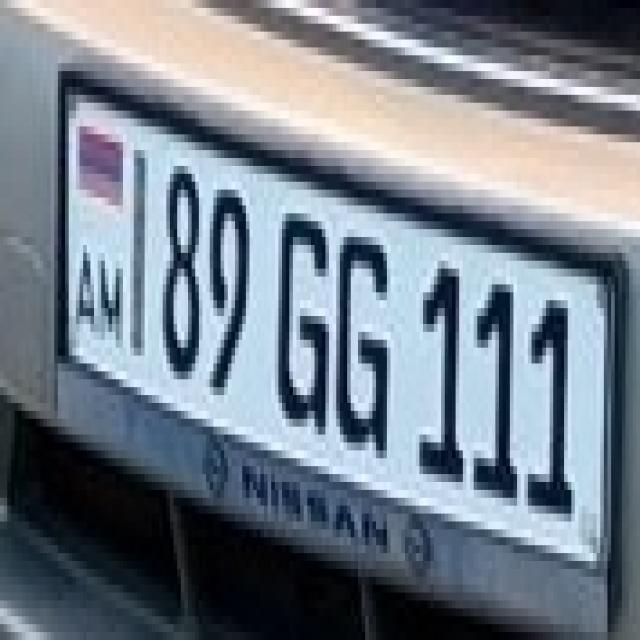1: (452, 260, 521, 506), (506, 268, 575, 506), (402, 237, 466, 482)
8: (138, 134, 206, 372)
9: (192, 166, 256, 387)
G: (326, 205, 394, 450), (264, 190, 333, 426)
